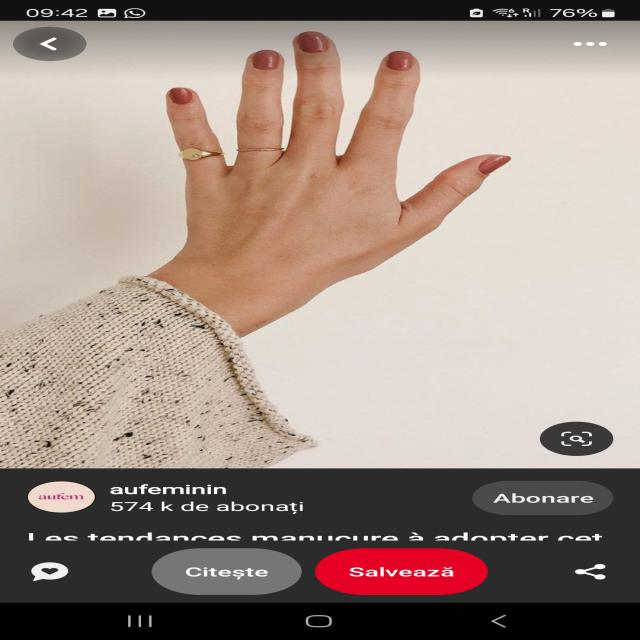hands: (100, 23, 552, 337)
